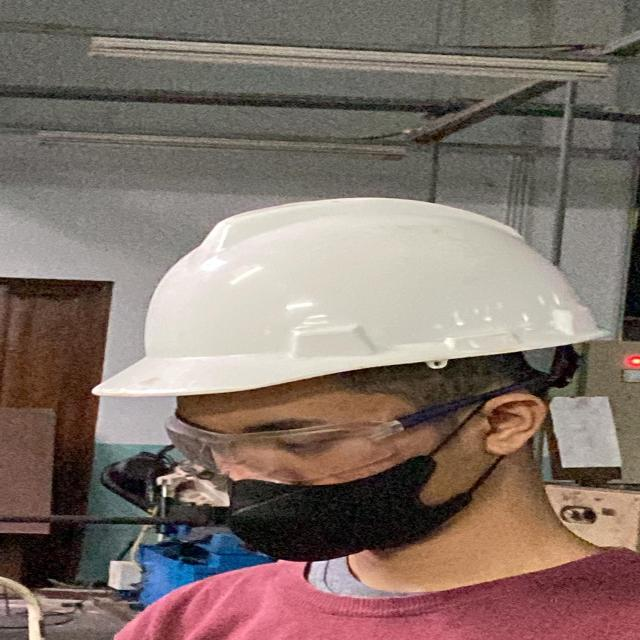glasses: (151, 386, 466, 485)
head_helmet: (95, 193, 618, 398)
person: (158, 404, 462, 561)
